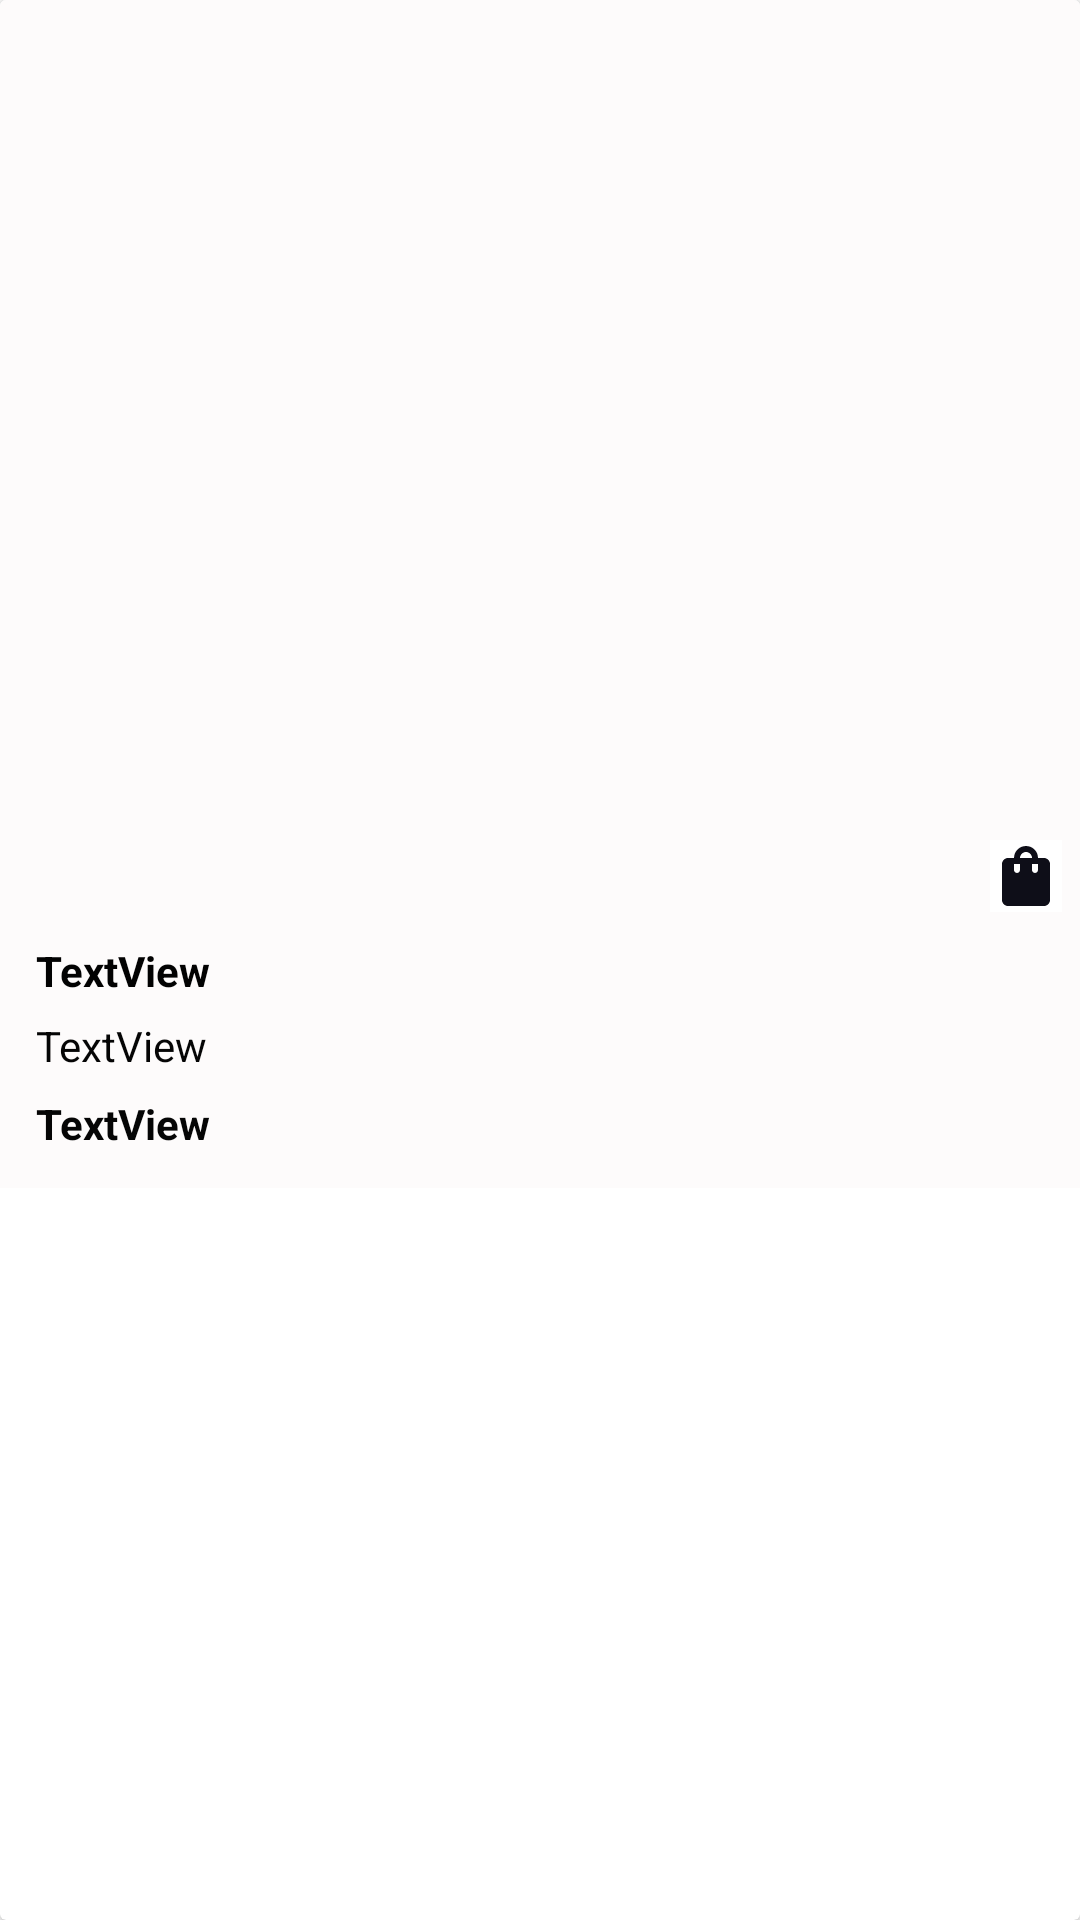

Screen size 1080px x 1920px. Icon name, then its box in pixels as (x1, y1, x2, y2):
shopping bag: (1002, 846, 1050, 906)
